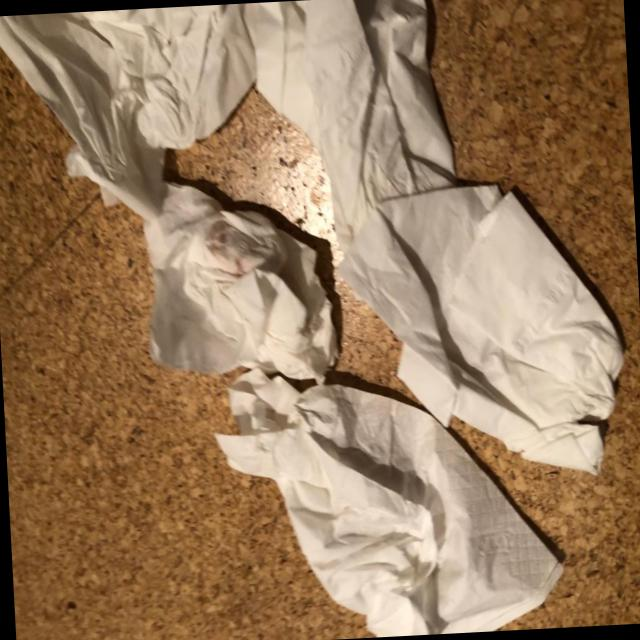organic waste: (208, 346, 566, 640), (336, 176, 630, 486), (0, 3, 264, 225), (242, 0, 462, 241), (138, 171, 350, 391)
